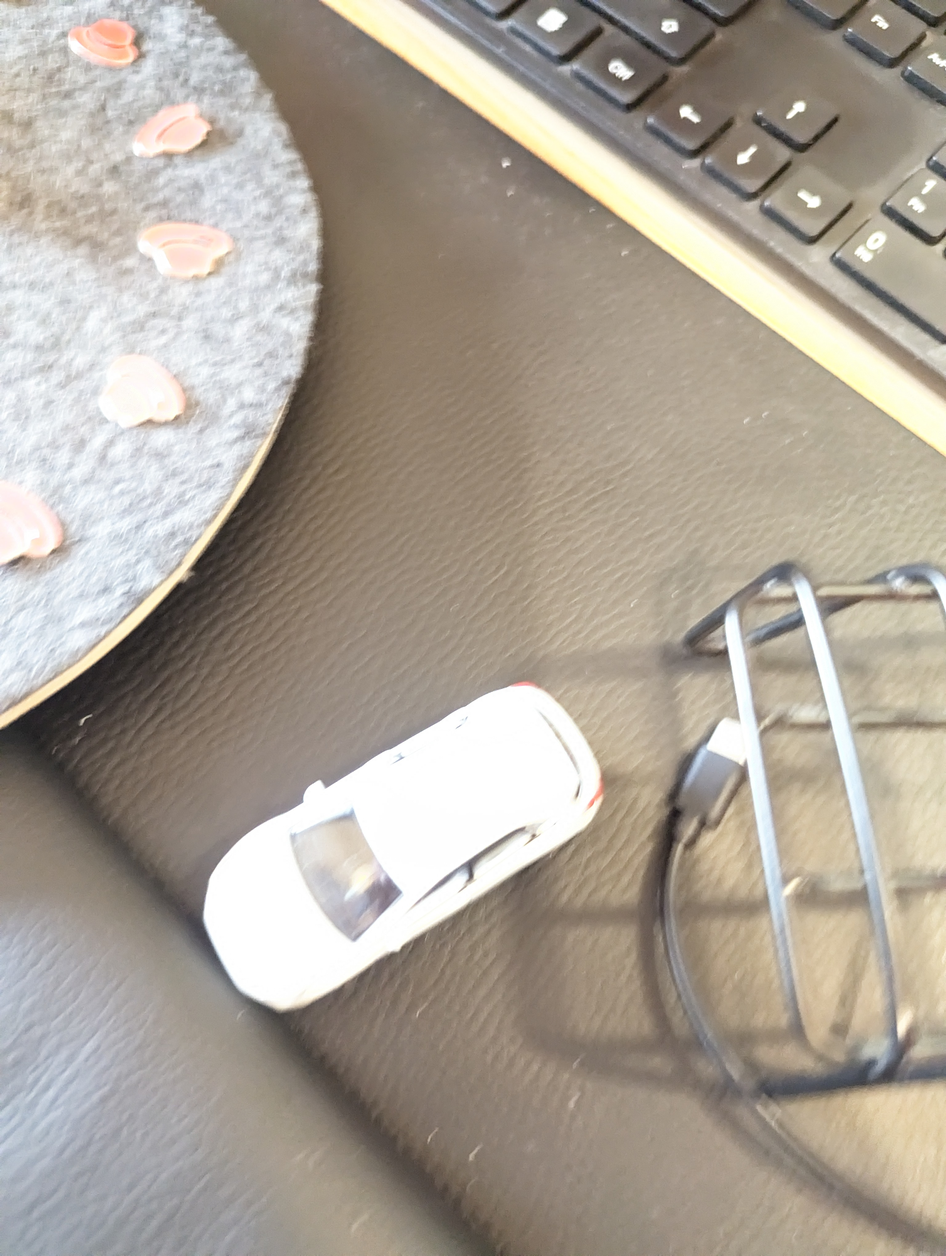Car: (163, 674, 671, 1057)
Red-Hat: (75, 332, 203, 448), (108, 203, 256, 286), (116, 92, 261, 176), (39, 0, 157, 80)
